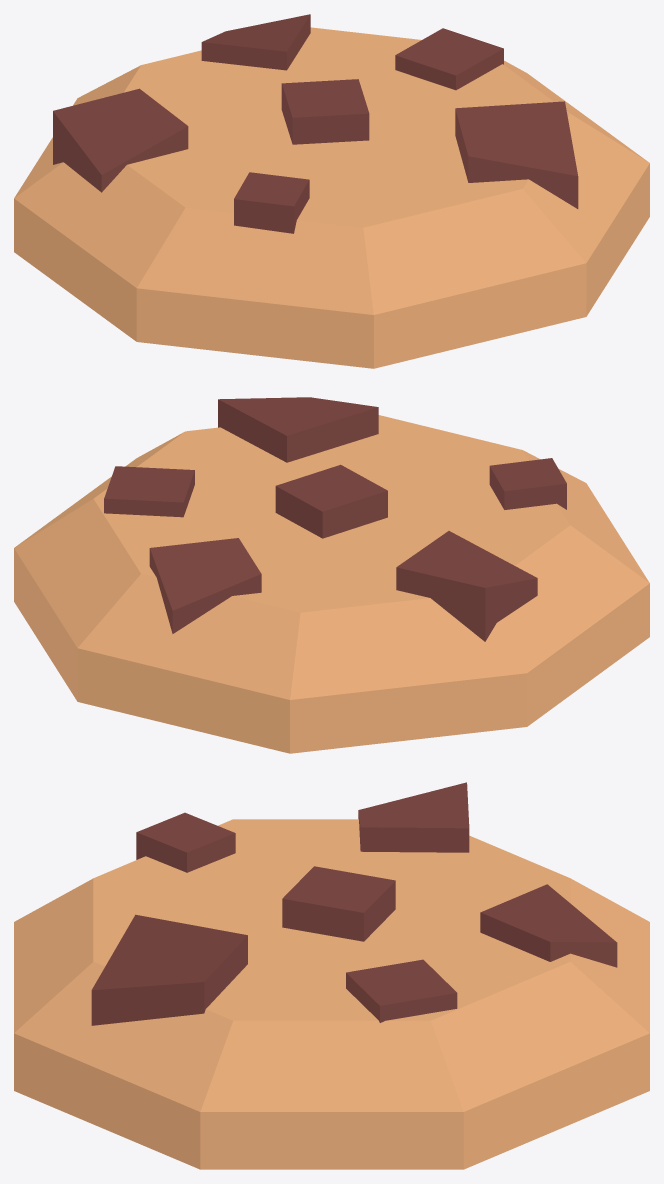
3 renders of one model, top to bottom at view 1: azimuth 30°, elevation 25°; view 2: azimuth 150°, elevation 25°; view 3: azimuth 270°, elevation 25°, orthographic. The views are drawn at different scales.
Parts seen in each view (by area): view 1: Cookie; view 2: Cookie; view 3: Cookie.
Boxes of the visible parts, x1,y1,x2,y2 form: Cookie: (14, 14, 649, 368); Cookie: (14, 397, 649, 753); Cookie: (14, 782, 649, 1169).
Size of the model in its own units: 0.25 by 0.0625 by 0.25.
1 material, 1 textured.
